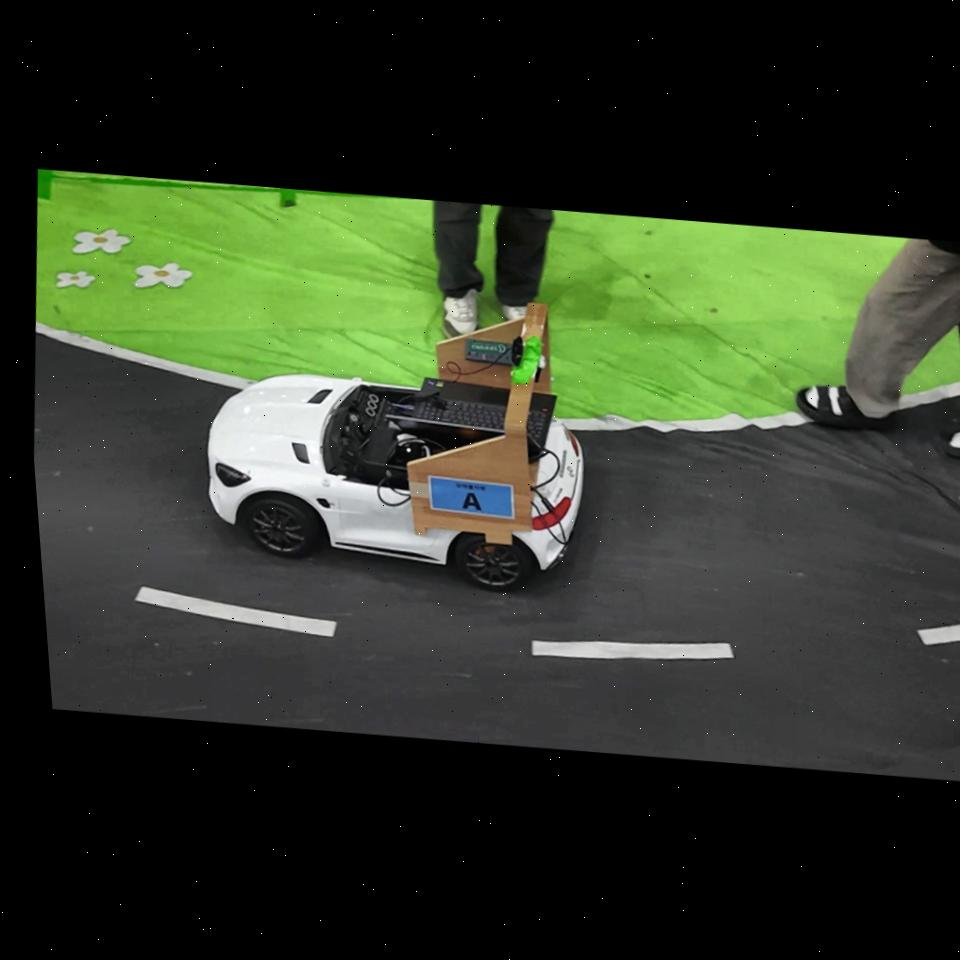broken_line: (135, 587, 337, 637), (532, 641, 733, 660), (918, 624, 960, 645)
